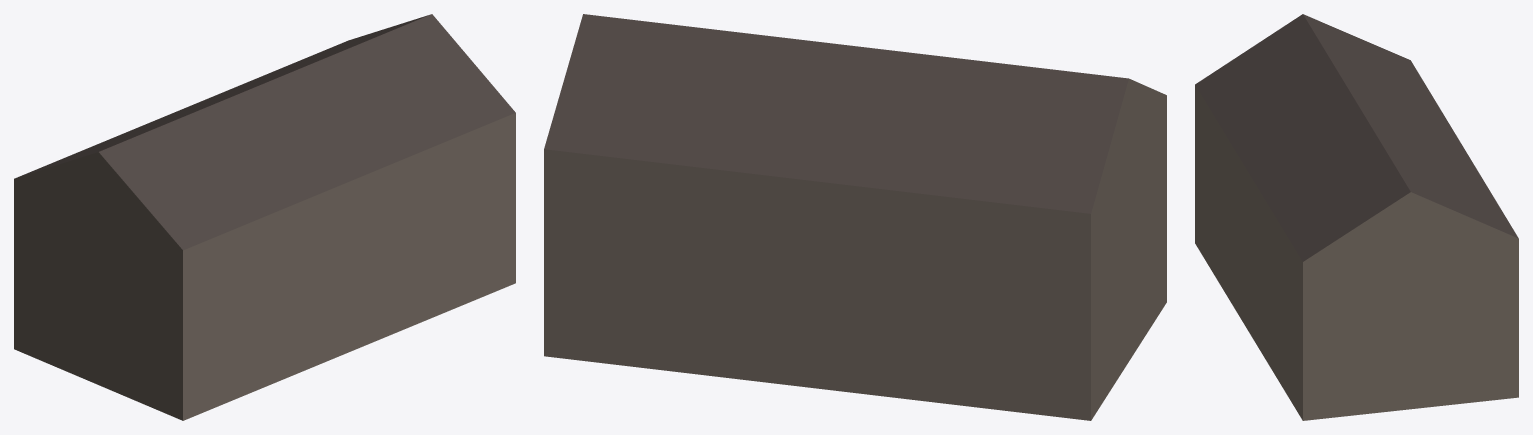
3 views of the same model, side by side, from view 1: azimuth 30°, elevation 25°; view 2: azimuth 150°, elevation 25°; view 3: azimuth 270°, elevation 25° (orthographic). The views are drawn at different scales.
Parts seen in each view (by area): view 1: HP-w1200785668; view 2: HP-w1200785668; view 3: HP-w1200785668.
Boxes of the visible parts, box(x1,y1,x2,y2) form: HP-w1200785668: box(14, 14, 515, 420); HP-w1200785668: box(544, 14, 1166, 420); HP-w1200785668: box(1195, 14, 1518, 420).
Bounding box in the file's own units: 16.35 × 8.21 × 11.09.
